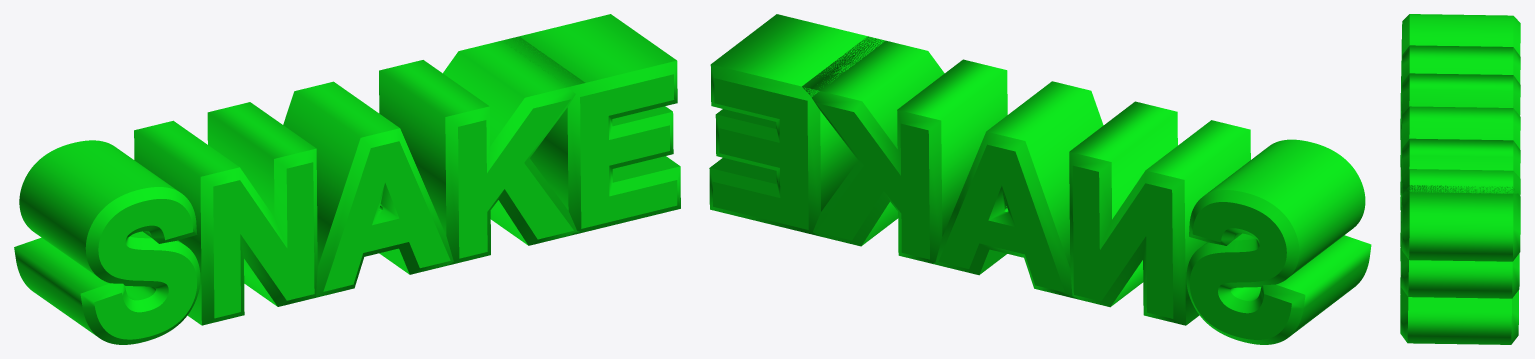
File: snake.fbx
The picture shows the model from 3 angles, left to right: view 1: azimuth 30°, elevation 25°; view 2: azimuth 150°, elevation 25°; view 3: azimuth 270°, elevation 25°; orthographic projection. The views are drawn at different scales.
Visible parts, largest first — view 1: Text; view 2: Text; view 3: Text.
Boxes of the visible parts, box(x1,y1,x2,y2) form: Text: box(14, 14, 680, 344); Text: box(709, 14, 1371, 344); Text: box(1400, 14, 1520, 344).
Bounding box in the file's own units: 2.47 × 0.6072 × 0.5489.
